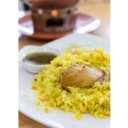briyani: (46, 52, 109, 114)
